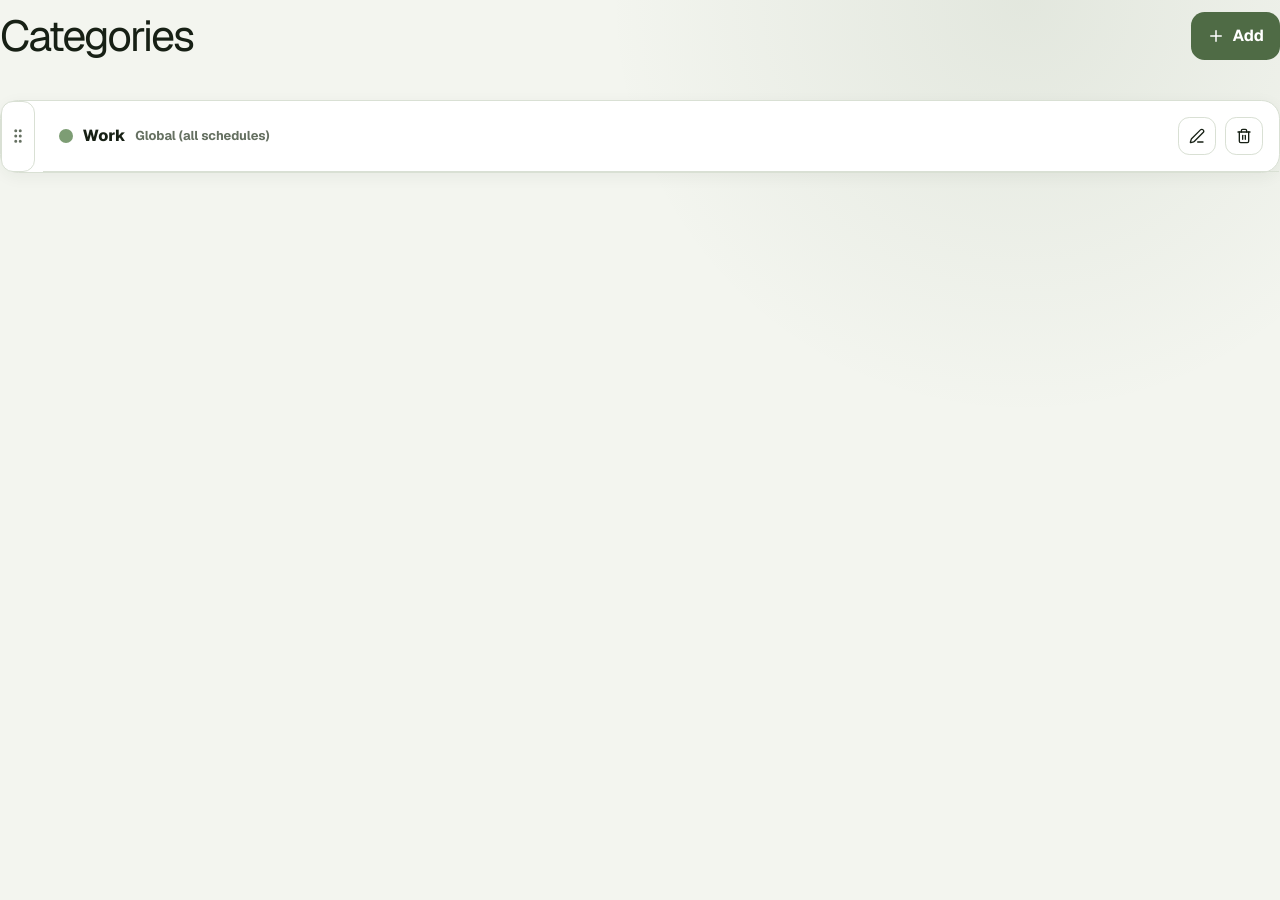
CategoriesView › shows an edited emoji immediately after saving
Expected: the text "Work" is shown, [83,125,126,146]
Click the button named "Edit Work".
click(1197, 136)  # box [1178,117,1216,155]
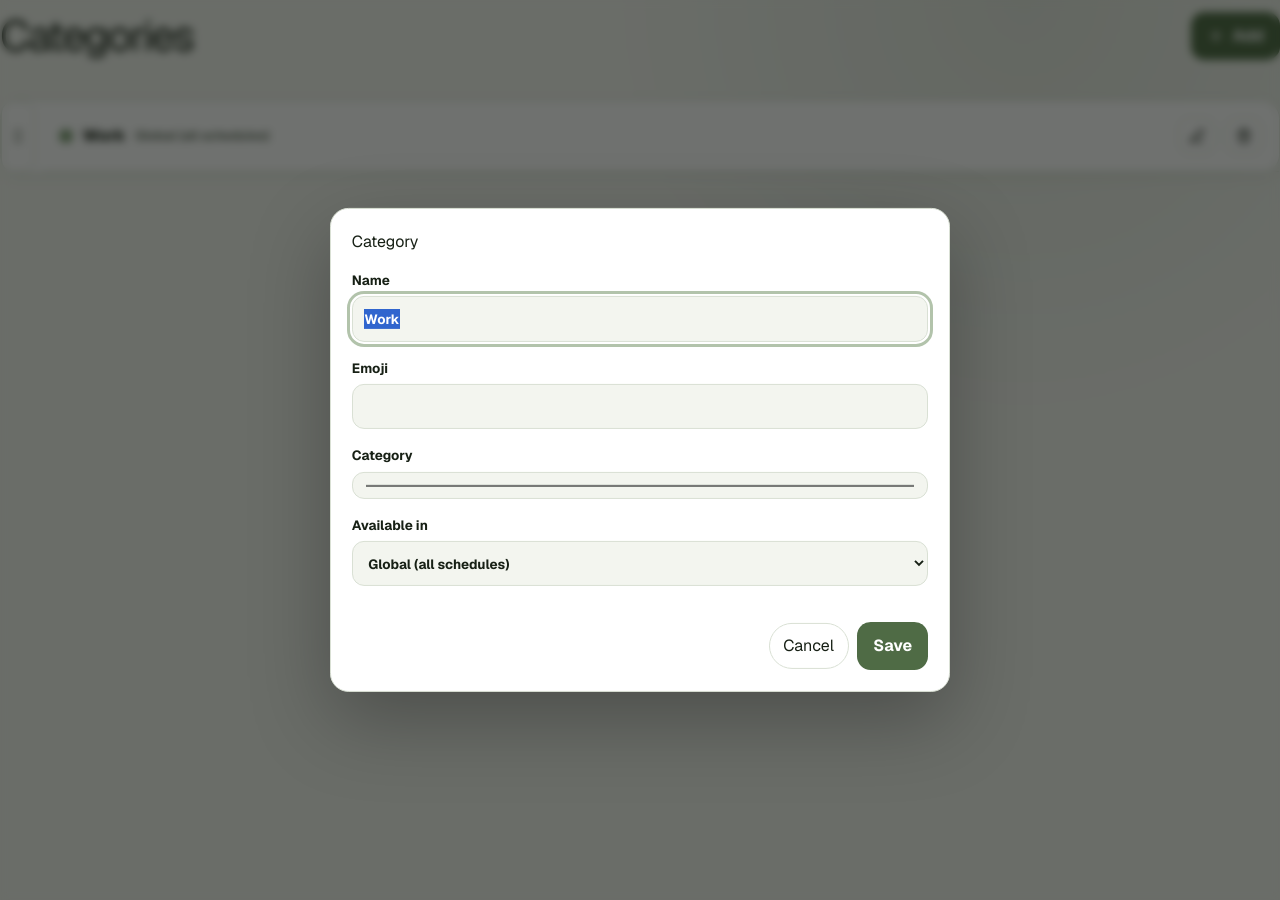
Type "🎯" into the field labelled "Emoji".
click(640, 407); type("🎯")  # box [352,384,928,429]
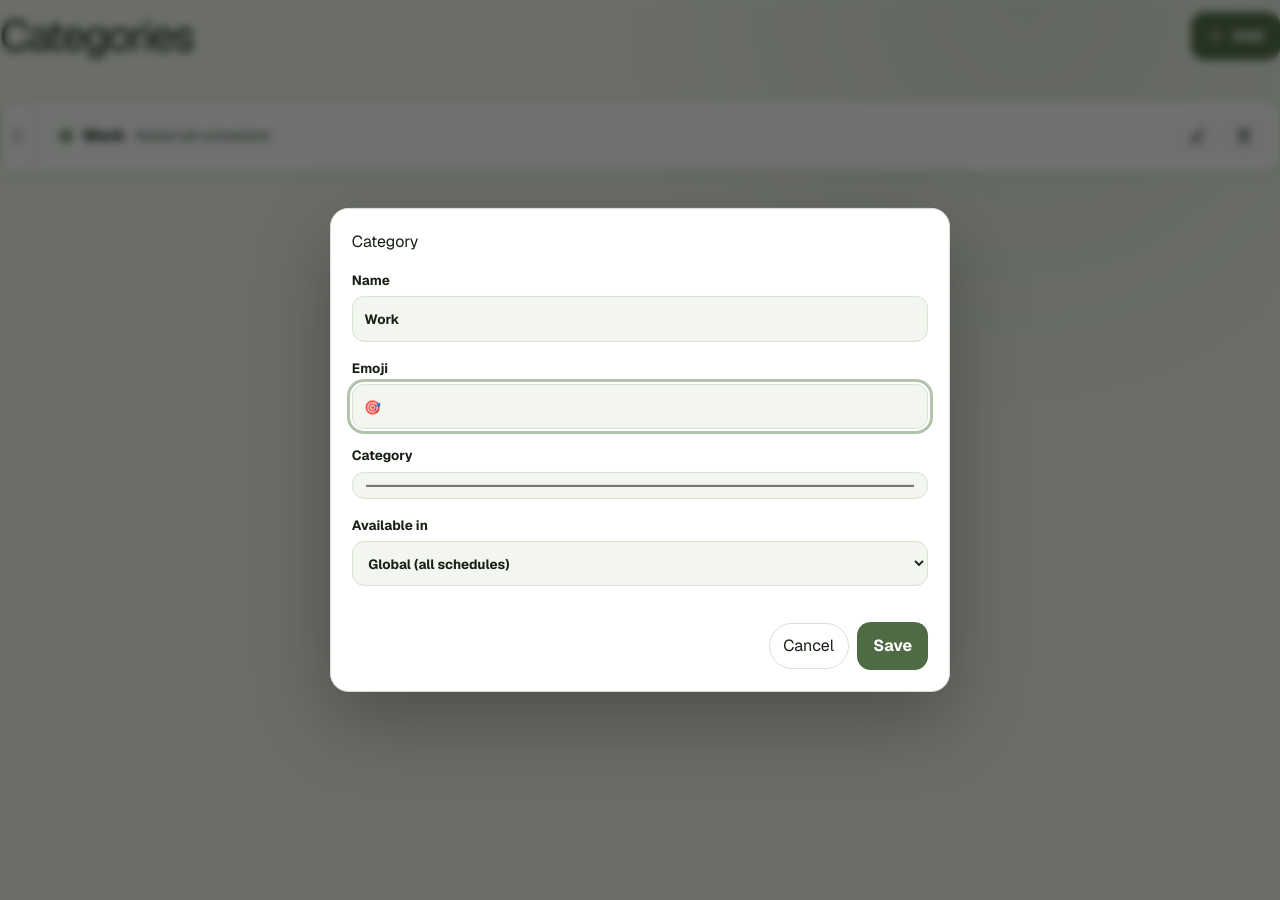
Click the button "Save".
click(893, 646)  # box [857,622,928,670]
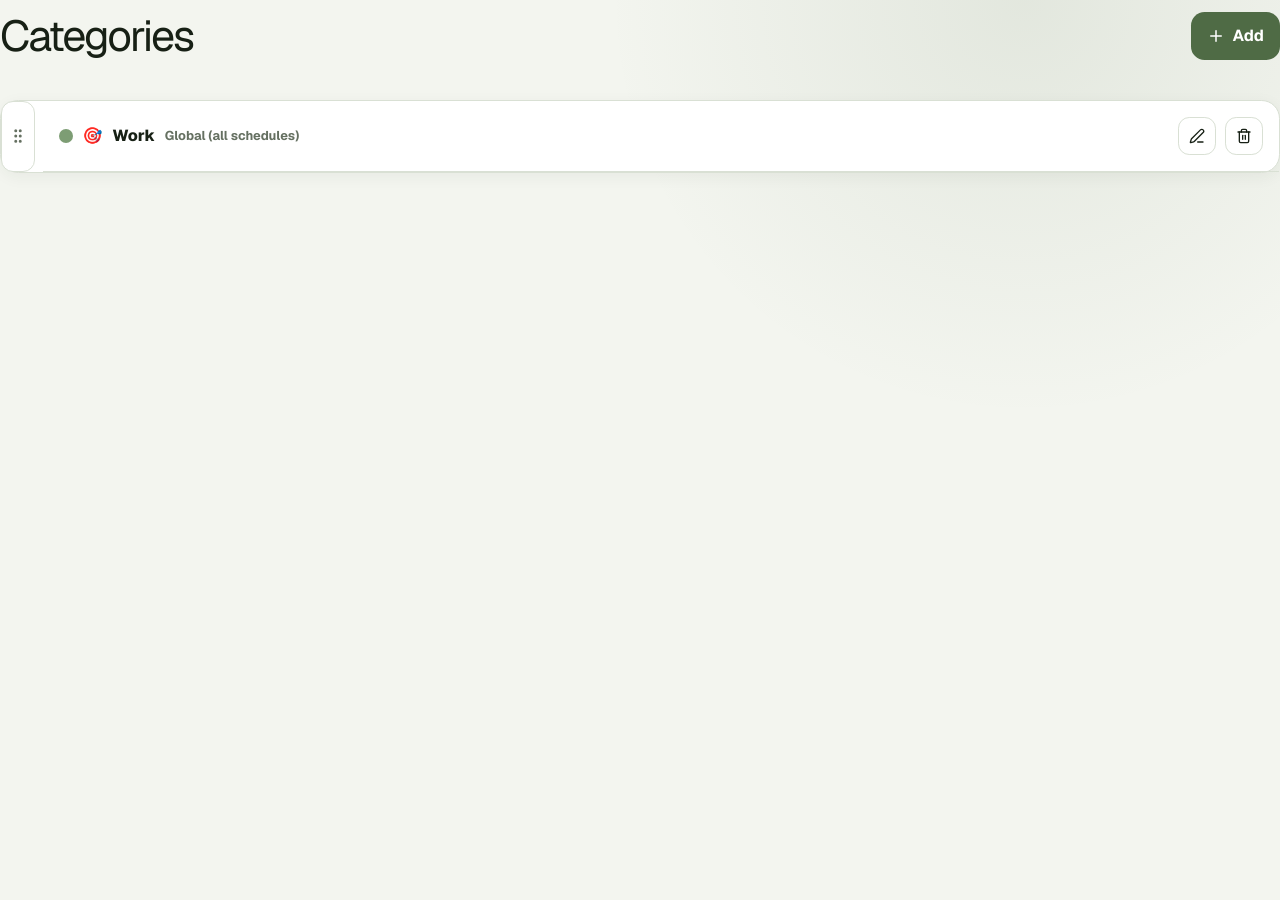
Expected: the text "🎯" is shown, [83,125,103,146]
